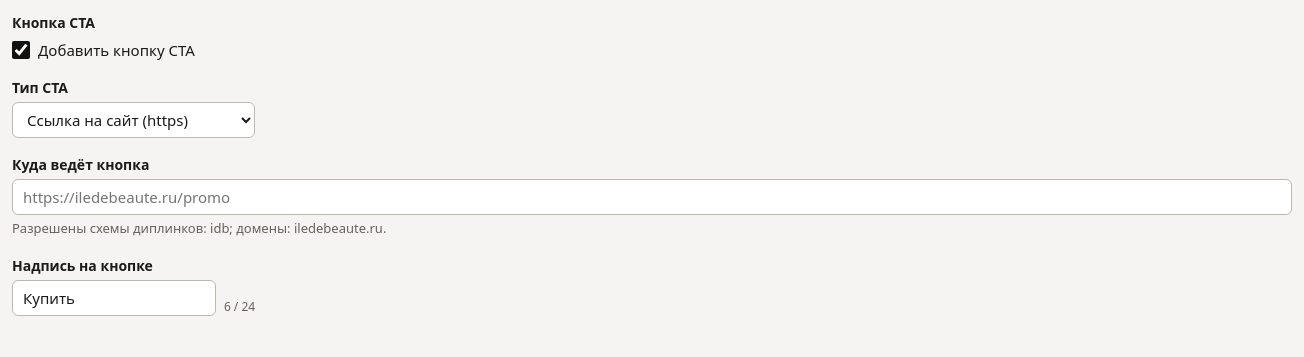
CTA: проверка по allowlist › https://evil.example/promo — ошибка
In the field labelled "Куда ведёт кнопка": (652, 197) [12,179,1292,215], type "https://evil.example/promo"
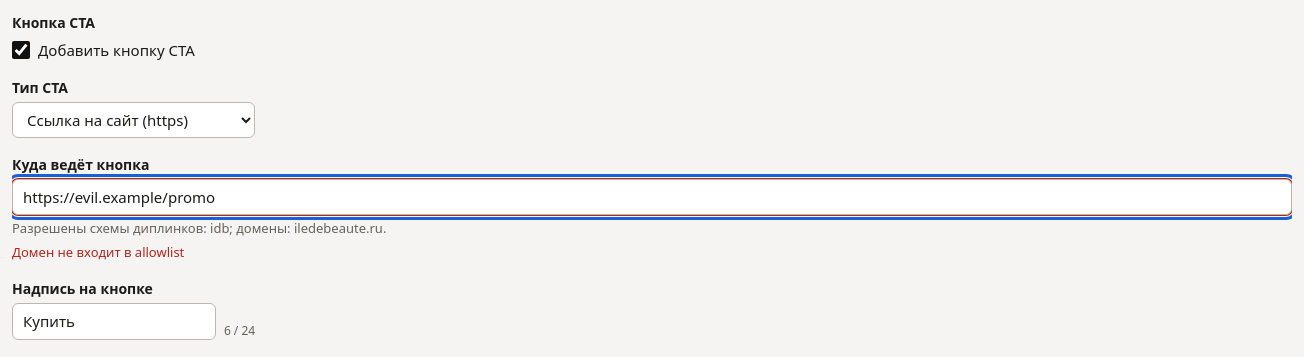
Now the message reads "Домен не входит в allowlist", box [12,243,184,261]
